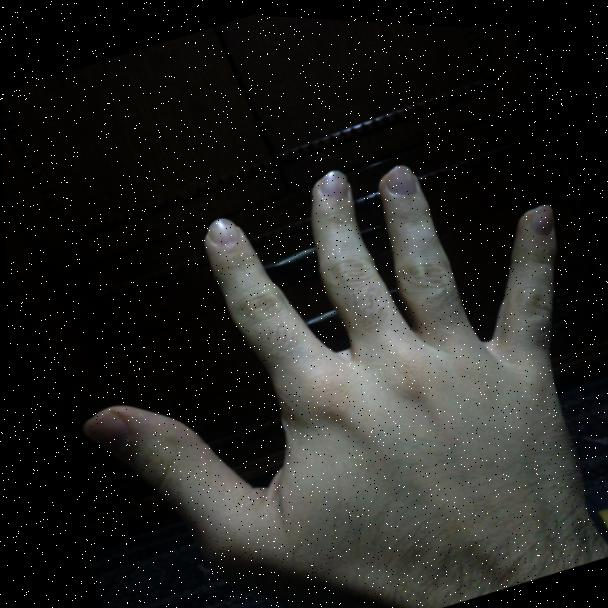five: (5, 68, 608, 608)
